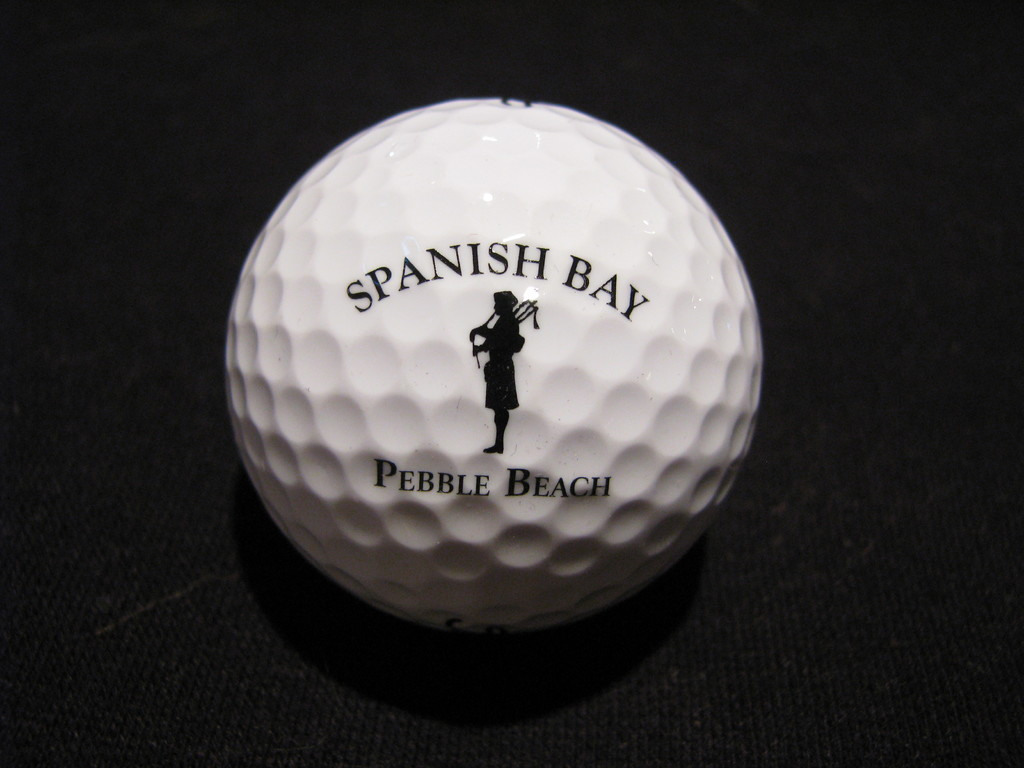Ball: (221, 93, 766, 634)
